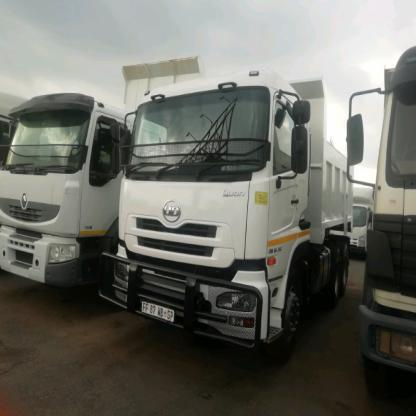dump_truck: (127, 68, 365, 366), (1, 72, 131, 320)
